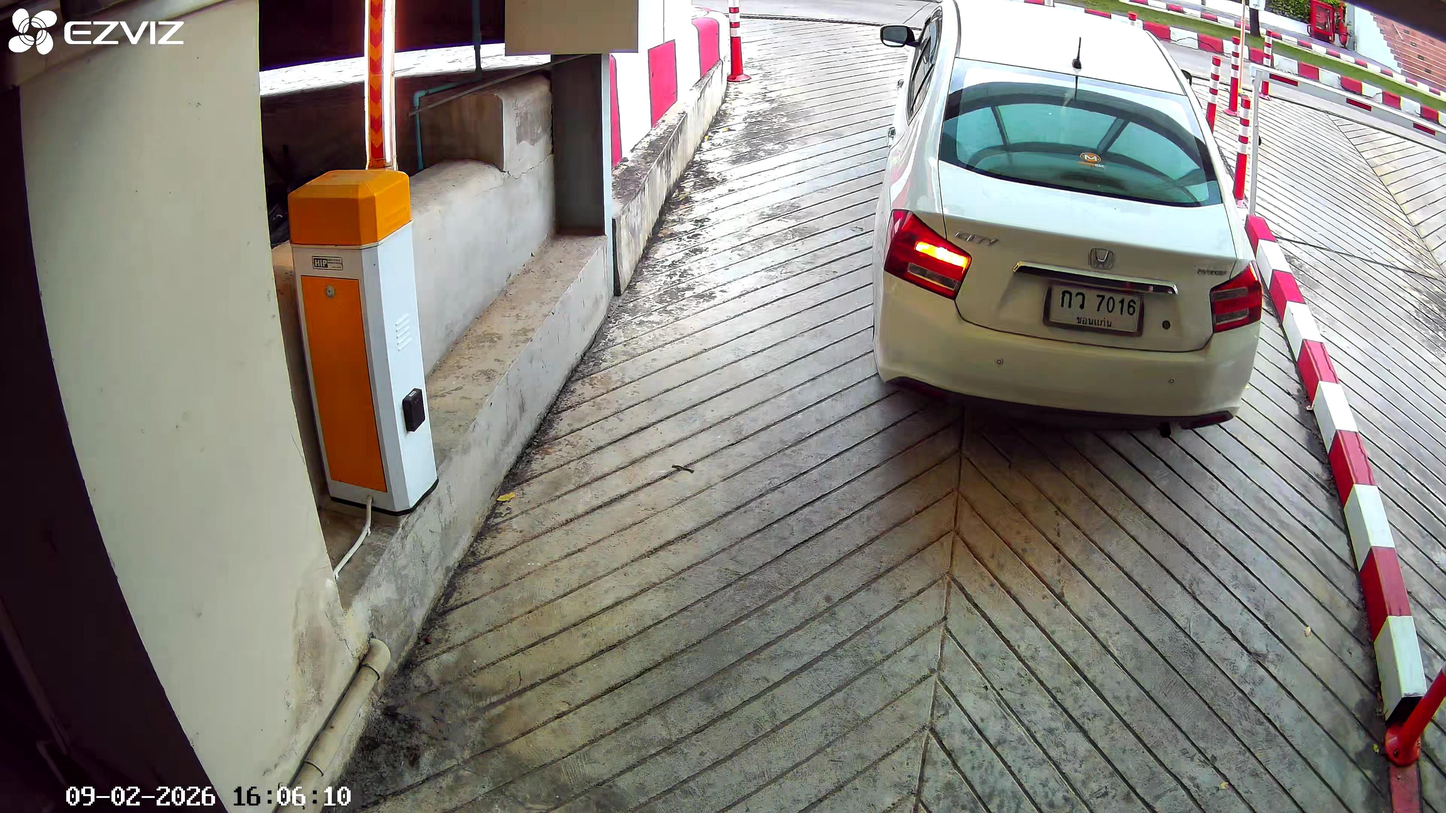car: (875, 9, 1263, 429)
license-plate: (1043, 277, 1147, 336)
